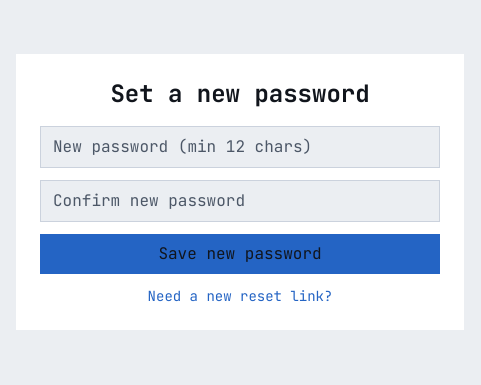
ResetPasswordPage › shows expired token error
The image size is (481, 385).
In the password field with placeholder "New password (min 12 chars)": point(240, 147) [40, 126, 440, 168], type "good-password-12"
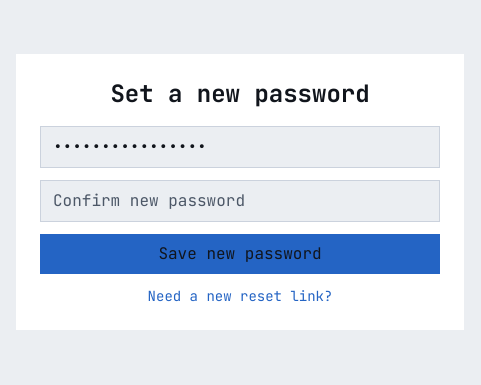
In the password field with placeholder "Confirm new password": point(240, 201) [40, 180, 440, 222], type "good-password-12"
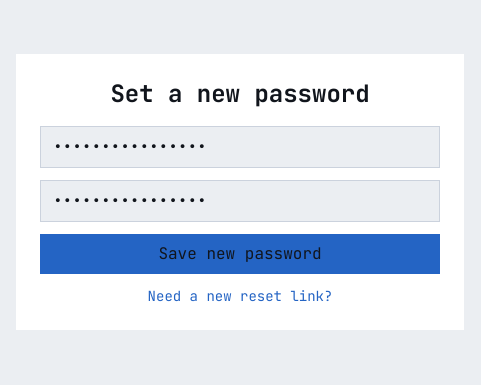
Click the button "Save new password": point(240, 254) [40, 234, 440, 274]
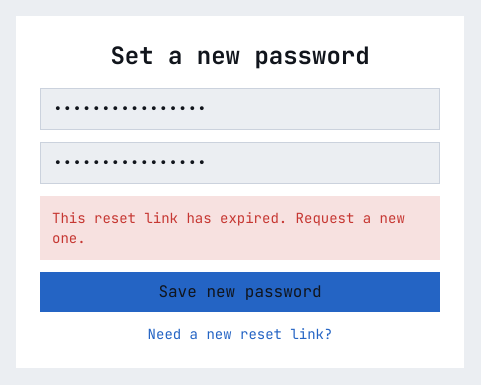
Expected: the text "This reset link has expired. Request a new one." is shown, [40, 196, 440, 260]
